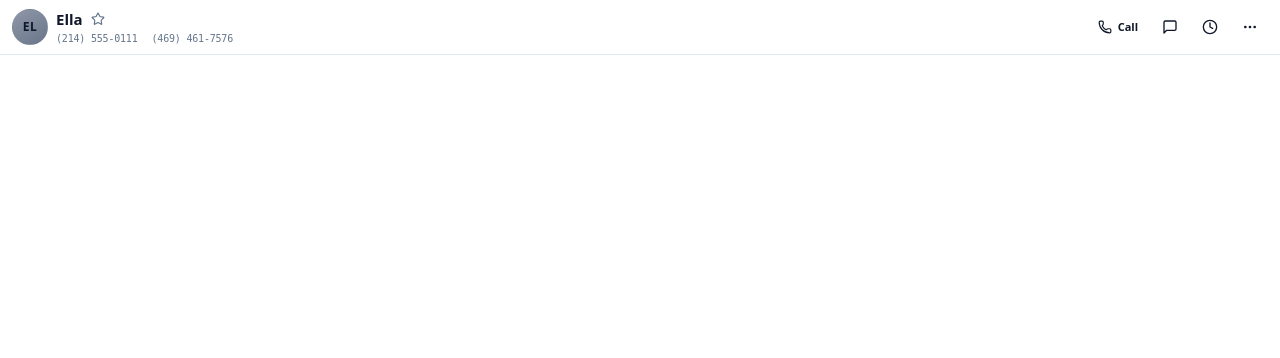
Test: ConversationHeader P26 snooze › reveals the custom datetime control and gates the Snooze button by validity
Click the button named "Snooze".
click(1210, 27)  # box left=1192, top=9, right=1228, bottom=45
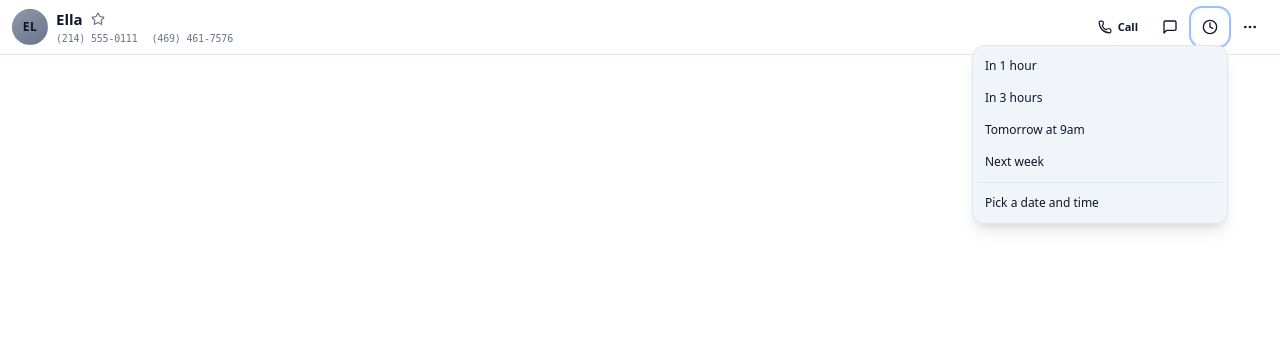
Click the menu item "Pick a date and time".
click(1100, 203)  # box left=977, top=187, right=1223, bottom=219
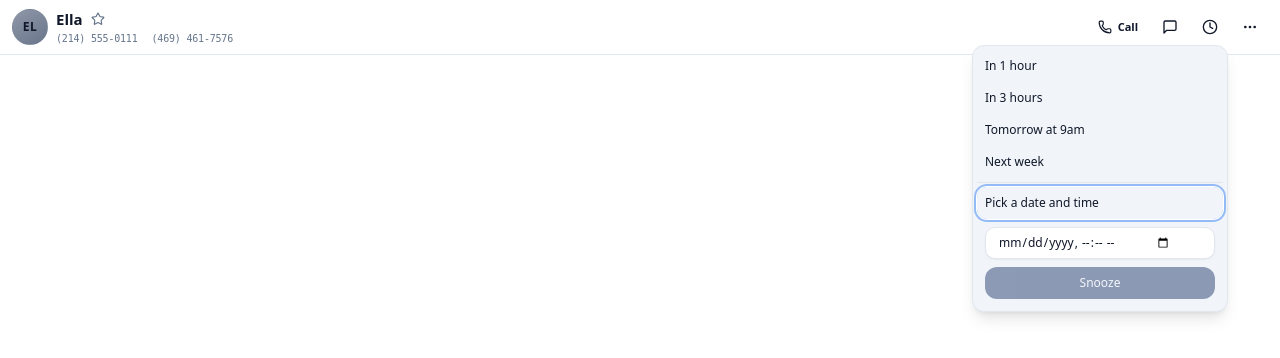
Expected: the text "Choose a time in the future." is not shown
Result: the field named "Date and time" is shown
Result: the button with aria-label "Snooze until this time" is disabled at left=985, top=267, right=1215, bottom=299
Type "2020-01-01T00:00" into the field named "Date and time".
click(1100, 243); type("2020-01-01T00:00")  # box left=985, top=227, right=1215, bottom=259
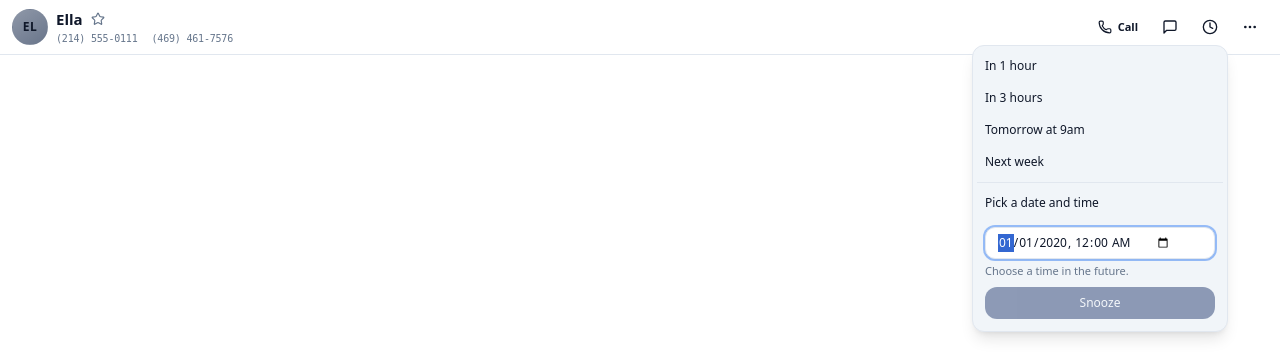
Result: the button with aria-label "Snooze until this time" is disabled at left=985, top=287, right=1215, bottom=319
Result: the text "Choose a time in the future." is shown at left=985, top=263, right=1129, bottom=278
Replace the text in the field named "Date and time" with "2030-01-01T00:00" at (1100, 243), box left=985, top=227, right=1215, bottom=259
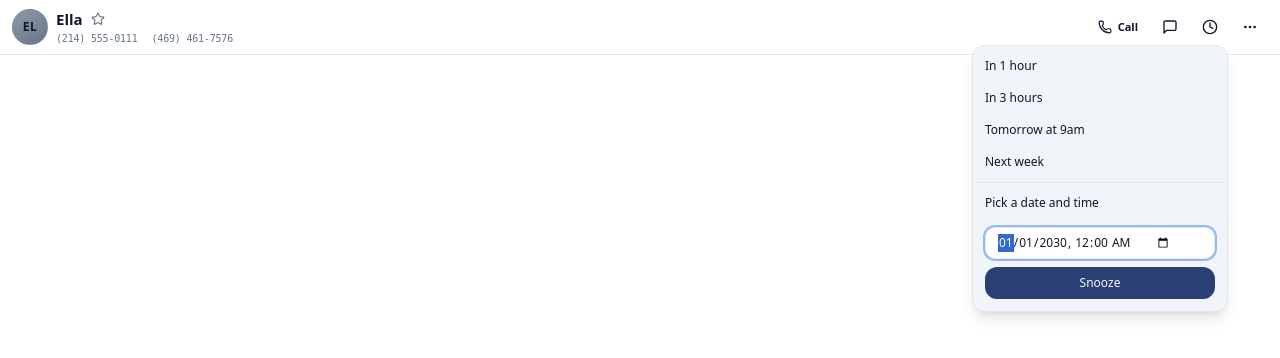
Expected: the text "Choose a time in the future." is not shown
Result: the button with aria-label "Snooze until this time" is enabled at left=985, top=267, right=1215, bottom=299
